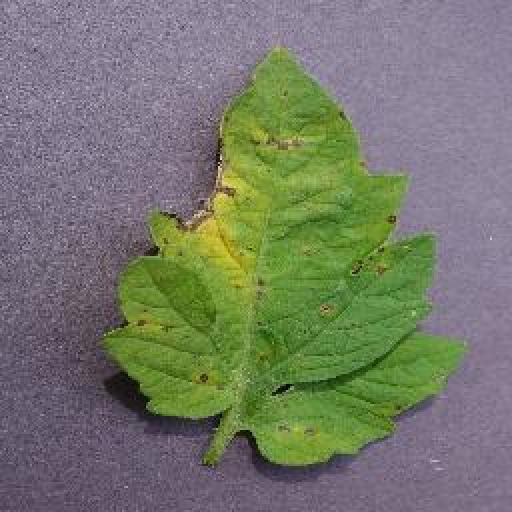disease_tomato: (107, 48, 471, 469)
